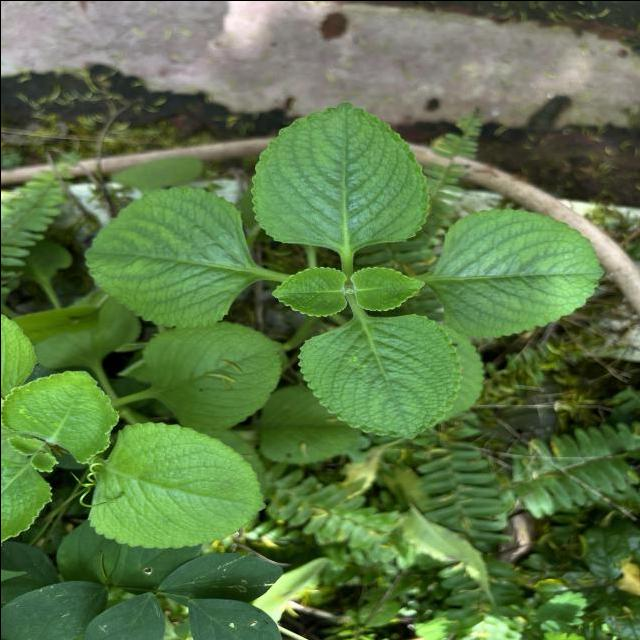Plectranthus barbatus: (250, 99, 430, 249), (80, 184, 258, 329), (85, 420, 269, 550), (430, 205, 605, 340), (296, 312, 462, 441), (138, 318, 284, 434), (0, 367, 120, 464), (269, 264, 346, 317), (348, 264, 425, 312), (4, 432, 45, 454)
